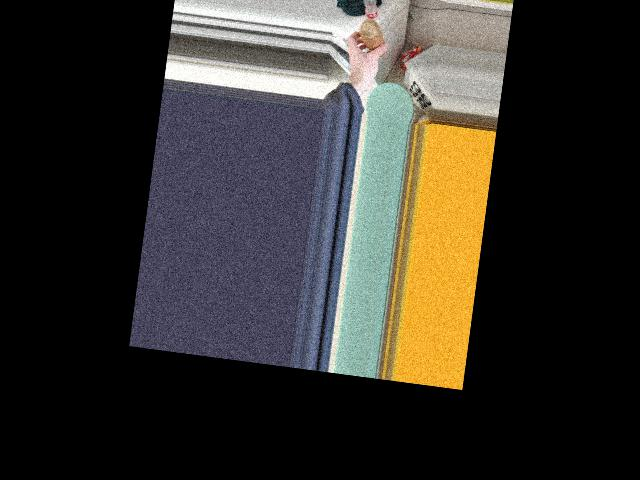sweet_potato: (354, 20, 392, 62)
